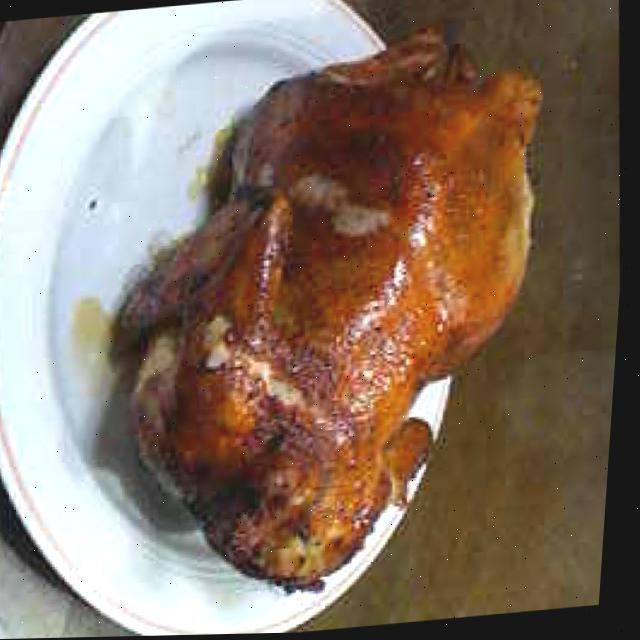鸡肉料理 含炸鸡: (77, 21, 592, 603)
